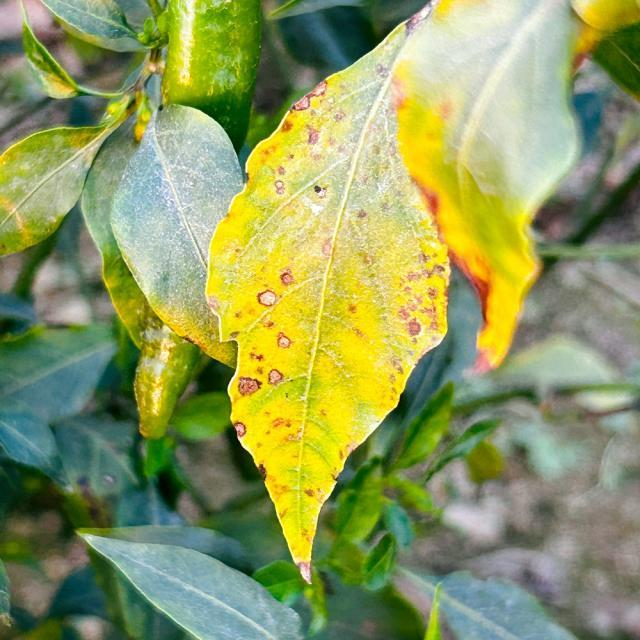Bercak Daun Serkospora: (206, 6, 451, 588), (394, 0, 585, 383)
